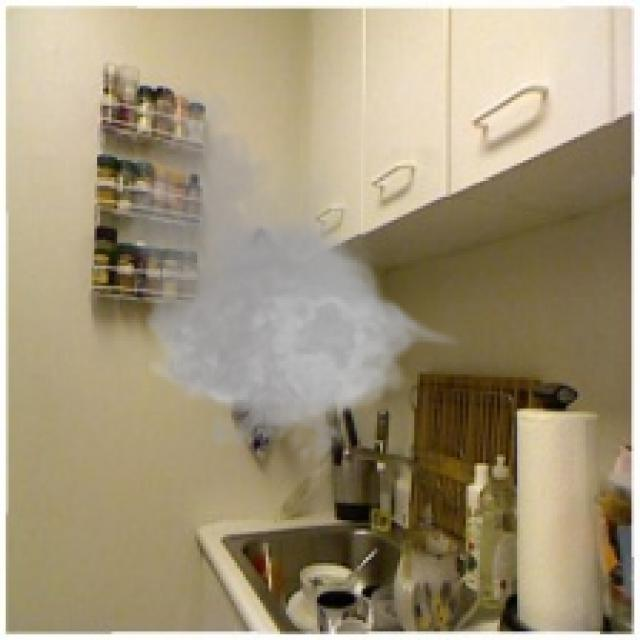smoke: (108, 80, 466, 474)
